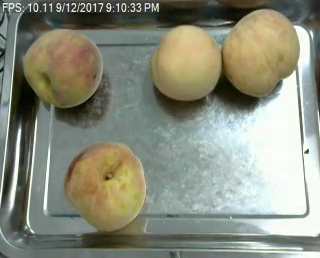Peach: (64, 141, 147, 233), (224, 8, 301, 96), (22, 27, 104, 109), (150, 24, 222, 101)
